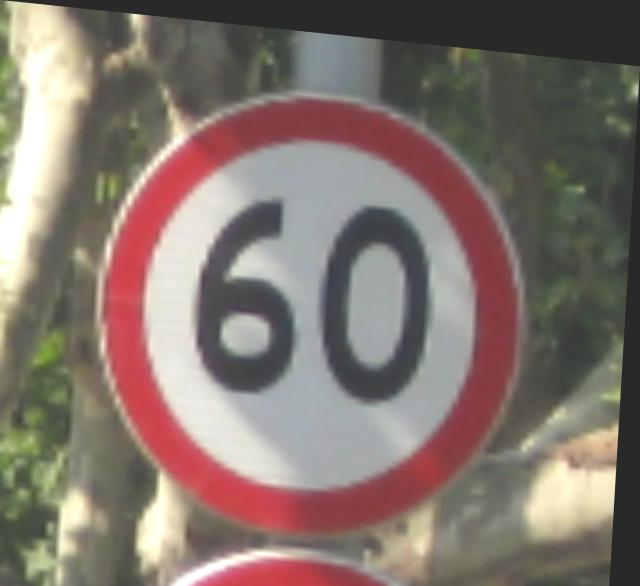limit60: (73, 56, 553, 559)
